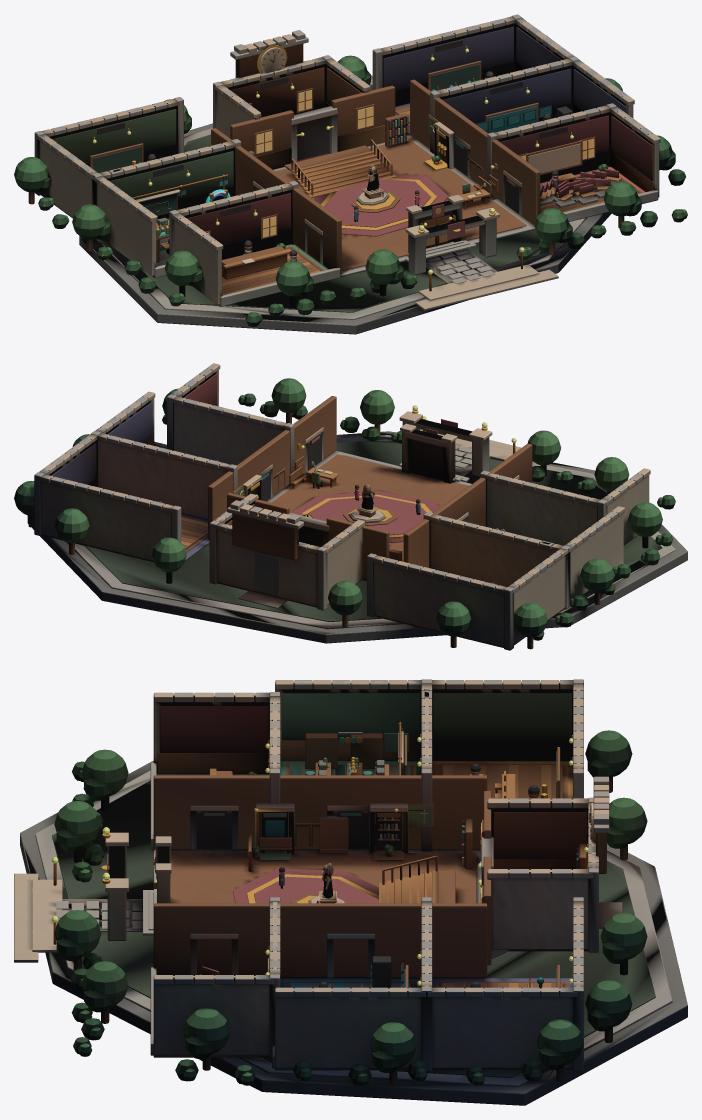
File: instituto-roxana.glb
3 views of the same model, one above another, from view 1: azimuth 30°, elevation 25°; view 2: azimuth 150°, elevation 25°; view 3: azimuth 270°, elevation 25° (orthographic). The views are drawn at different scales.
Parts seen in each view (by area): view 1: ROOM_hall__shell, SCHOOL__campus, ROOM_visitantes__shell, ROOM_preceptoria__shell, ROOM_electronica__shell, ROOM_fisica__shell, ROOM_matematica__shell, ROOM_direccion__shell, ROOM_programacion__shell, ROOM_logros__shell; view 2: SCHOOL__campus, ROOM_hall__shell, ROOM_direccion__shell, ROOM_matematica__shell, ROOM_fisica__shell, ROOM_electronica__shell, ROOM_programacion__shell, ROOM_preceptoria__shell, ROOM_visitantes__shell; view 3: SCHOOL__campus, ROOM_hall__shell, ROOM_direccion__shell, ROOM_matematica__shell, ROOM_electronica__shell, ROOM_programacion__shell, ROOM_fisica__shell, ROOM_preceptoria__shell, ROOM_visitantes__shell, ROOM_biblioteca__shell, ROOM_audiovisual__shell.
Boxes of the visible parts, x1,y1,x2,y2 form: ROOM_hall__shell: [211, 79, 540, 277]; SCHOOL__campus: [14, 35, 687, 334]; ROOM_visitantes__shell: [487, 103, 660, 221]; ROOM_preceptoria__shell: [169, 181, 340, 306]; ROOM_electronica__shell: [92, 139, 241, 277]; ROOM_fisica__shell: [372, 14, 574, 135]; ROOM_matematica__shell: [34, 97, 183, 218]; ROOM_direccion__shell: [213, 30, 370, 161]; ROOM_programacion__shell: [430, 56, 634, 153]; ROOM_logros__shell: [424, 122, 453, 170]; SCHOOL__campus: [14, 378, 687, 649]; ROOM_hall__shell: [208, 396, 532, 580]; ROOM_direccion__shell: [209, 493, 364, 610]; ROOM_matematica__shell: [367, 548, 568, 650]; ROOM_fisica__shell: [34, 434, 209, 562]; ROOM_electronica__shell: [423, 506, 624, 609]; ROOM_programacion__shell: [91, 391, 237, 519]; ROOM_preceptoria__shell: [480, 468, 650, 545]; ROOM_visitantes__shell: [167, 363, 294, 485]; SCHOOL__campus: [14, 730, 687, 1105]; ROOM_hall__shell: [143, 775, 493, 978]; ROOM_direccion__shell: [487, 776, 609, 952]; ROOM_matematica__shell: [432, 679, 583, 799]; ROOM_electronica__shell: [275, 679, 432, 851]; ROOM_programacion__shell: [272, 897, 432, 1071]; ROOM_fisica__shell: [427, 897, 583, 1071]; ROOM_preceptoria__shell: [150, 692, 280, 850]; ROOM_visitantes__shell: [150, 897, 280, 1058]; ROOM_biblioteca__shell: [369, 803, 408, 860]; ROOM_audiovisual__shell: [255, 803, 294, 860].
Bounding box in the file's own units: 55.2 × 9.75 × 44.42.
